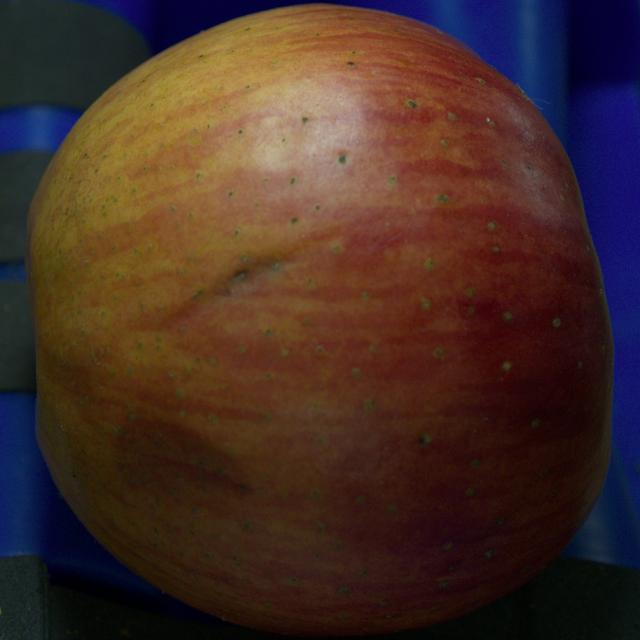apple: (26, 5, 613, 635)
bruise: (117, 417, 254, 519)
pest: (232, 270, 248, 281)
